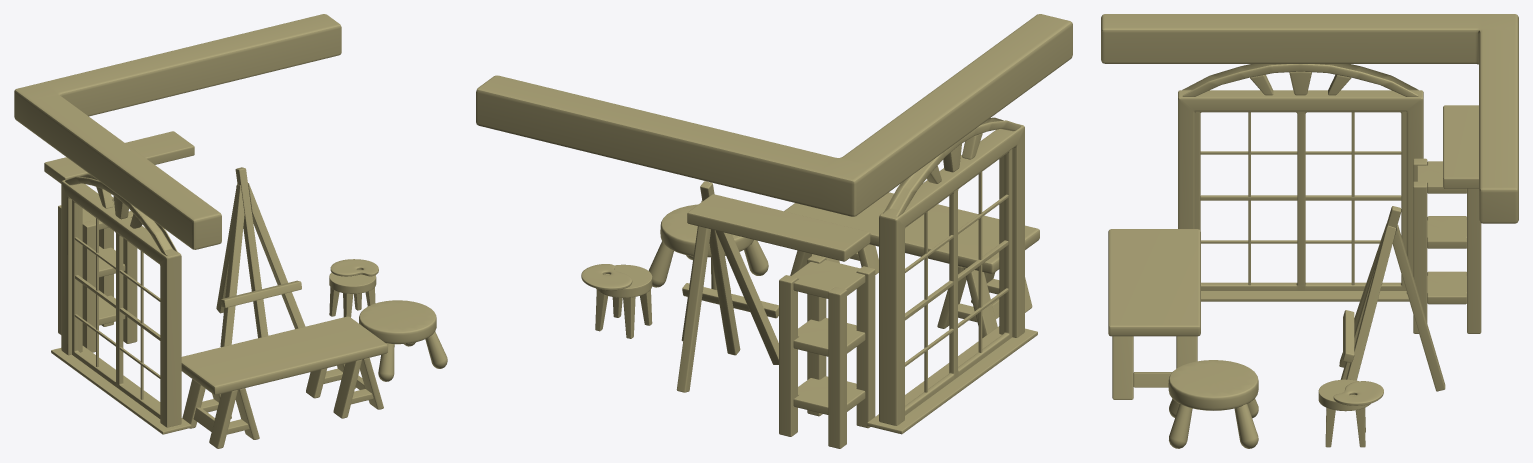
Rendered from art room light wood objects texture.fbx.
3 renders of one model, left to right at view 1: azimuth 30°, elevation 25°; view 2: azimuth 150°, elevation 25°; view 3: azimuth 270°, elevation 25°, orthographic. The views are drawn at different scales.
Parts seen in each view (by area): view 1: headboard, table_top1, window_border, polySurface11, large_stool, window_sill, wall_shelf1, easel_leg8, polySurface12, corner_shelf_leg14, polySurface5, corner_shelf_leg13 (+18 smaller); view 2: headboard, window_border, wall_shelf1, table_top1, polySurface11, window_sill, corner_shelf_leg15, corner_shelf_leg12, corner_shelf_leg14, polySurface4, polySurface12, corner_shelf_shelf4 (+15 smaller); view 3: headboard, table_top1, window_border, polySurface11, large_stool, wall_shelf1, window_arch, window_sill, corner_shelf_leg12, corner_shelf_leg13, polySurface4, polySurface5 (+18 smaller).
Boxes of the visible parts, left/top/right/bottom form: headboard: left=14, top=14, right=341, bottom=249; table_top1: left=181, top=316, right=387, bottom=394; window_border: left=61, top=179, right=181, bottom=427; polySurface11: left=72, top=200, right=160, bottom=418; large_stool: left=359, top=300, right=436, bottom=344; window_sill: left=51, top=346, right=191, bottom=434; wall_shelf1: left=44, top=131, right=194, bottom=183; easel_leg8: left=235, top=167, right=268, bottom=338; polySurface12: left=220, top=184, right=244, bottom=347; corner_shelf_leg14: left=82, top=220, right=95, bottom=352; polySurface5: left=248, top=183, right=305, bottom=328; corner_shelf_leg13: left=123, top=211, right=137, bottom=343; headboard: left=476, top=14, right=1072, bottom=216; window_border: left=879, top=124, right=1024, bottom=425; wall_shelf1: left=687, top=194, right=870, bottom=261; table_top1: left=784, top=192, right=1039, bottom=273; polySurface11: left=905, top=149, right=1012, bottom=415; window_sill: left=867, top=326, right=1037, bottom=434; corner_shelf_leg15: left=828, top=287, right=846, bottom=448; corner_shelf_leg12: left=779, top=275, right=797, bottom=436; corner_shelf_leg14: left=856, top=266, right=875, bottom=428; polySurface4: left=676, top=226, right=710, bottom=392; polySurface12: left=715, top=230, right=778, bottom=364; corner_shelf_shelf4: left=791, top=260, right=865, bottom=298; headboard: left=1101, top=14, right=1518, bottom=223; table_top1: left=1108, top=229, right=1200, bottom=336; window_border: left=1178, top=90, right=1423, bottom=293; polySurface11: left=1195, top=111, right=1406, bottom=290; large_stool: left=1168, top=360, right=1258, bottom=410; wall_shelf1: left=1443, top=105, right=1478, bottom=188; window_arch: left=1182, top=64, right=1418, bottom=96; window_sill: left=1201, top=282, right=1409, bottom=301; corner_shelf_leg12: left=1467, top=188, right=1481, bottom=333; corner_shelf_leg13: left=1413, top=181, right=1427, bottom=333; polySurface4: left=1392, top=224, right=1445, bottom=391; polySurface5: left=1346, top=225, right=1395, bottom=380.
Size of the model in its own units: 13.65 by 10.03 by 13.63.
